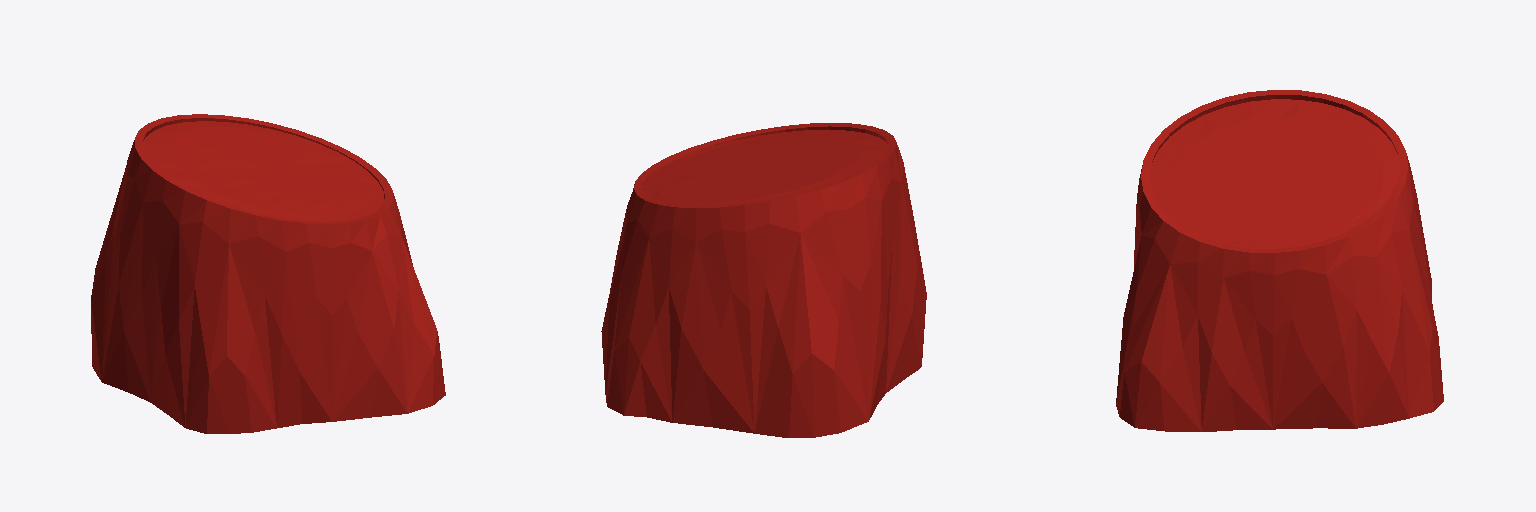
Rendered from Stump.obj.
3 views of the same model, side by side, from view 1: azimuth 30°, elevation 25°; view 2: azimuth 150°, elevation 25°; view 3: azimuth 270°, elevation 25° (orthographic).
Visible parts, largest first — view 1: pasted__pasted__pCylinder1 pasted__group6 group72; view 2: pasted__pasted__pCylinder1 pasted__group6 group72; view 3: pasted__pasted__pCylinder1 pasted__group6 group72.
Part boxes in pixels (left/top/right/bottom): pasted__pasted__pCylinder1 pasted__group6 group72: left=91, top=114, right=445, bottom=433; pasted__pasted__pCylinder1 pasted__group6 group72: left=601, top=123, right=926, bottom=437; pasted__pasted__pCylinder1 pasted__group6 group72: left=1116, top=90, right=1443, bottom=431.
Bounding box in the file's own units: 3.26 × 2.8 × 3.63.